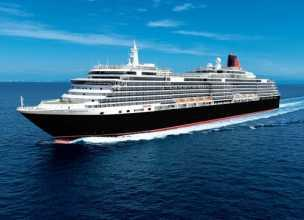youlun: (18, 48, 284, 139)
